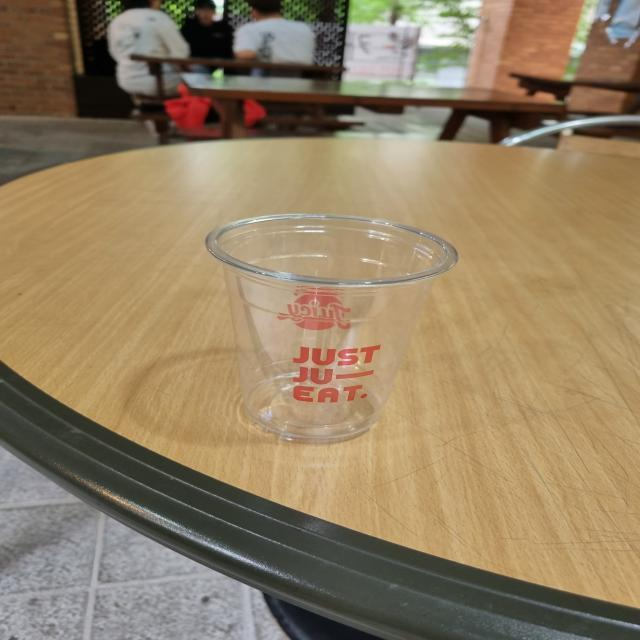bottle: (206, 215, 456, 442)
